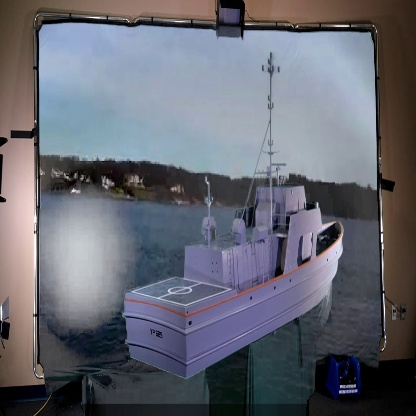YP689: (117, 52, 348, 382)
